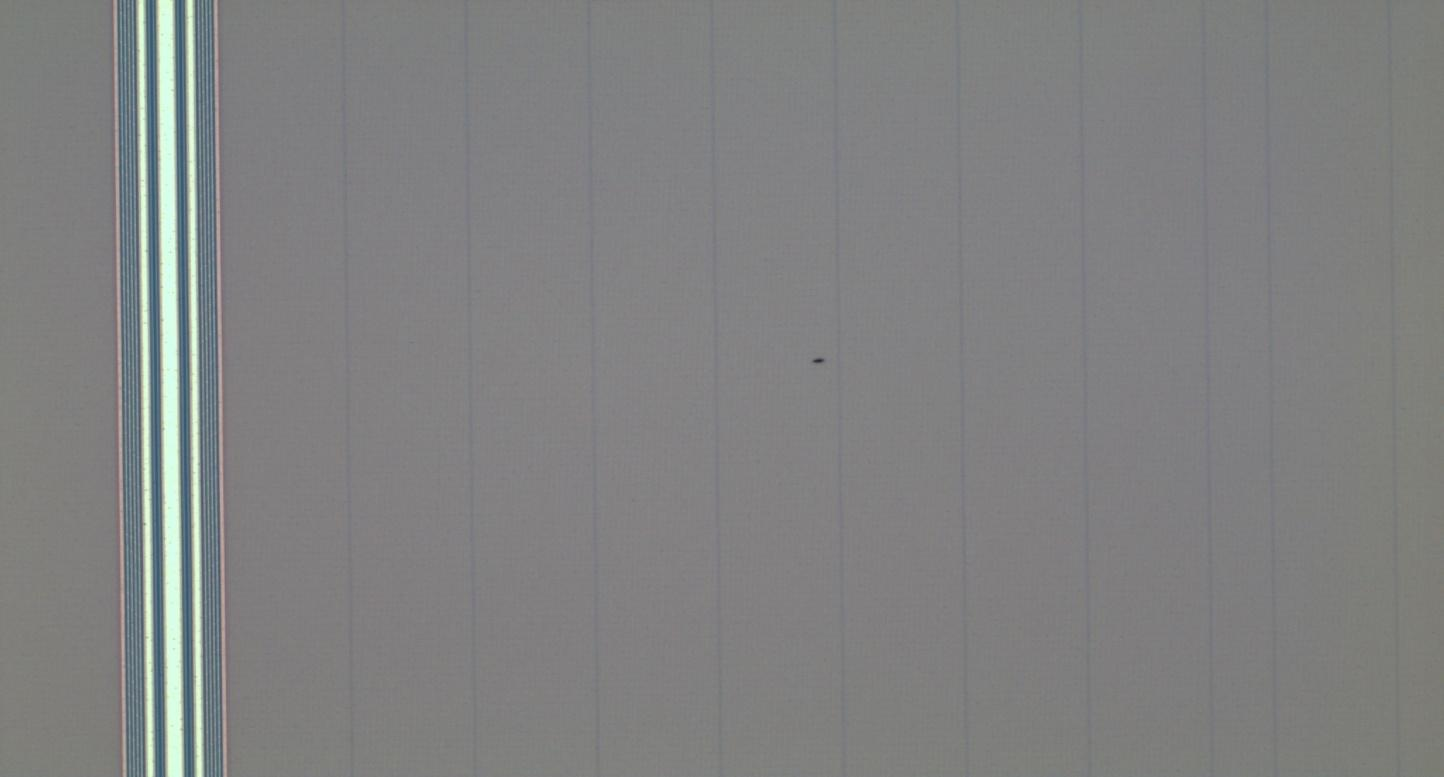PIQ PARTICLE: (790, 342, 834, 386)
